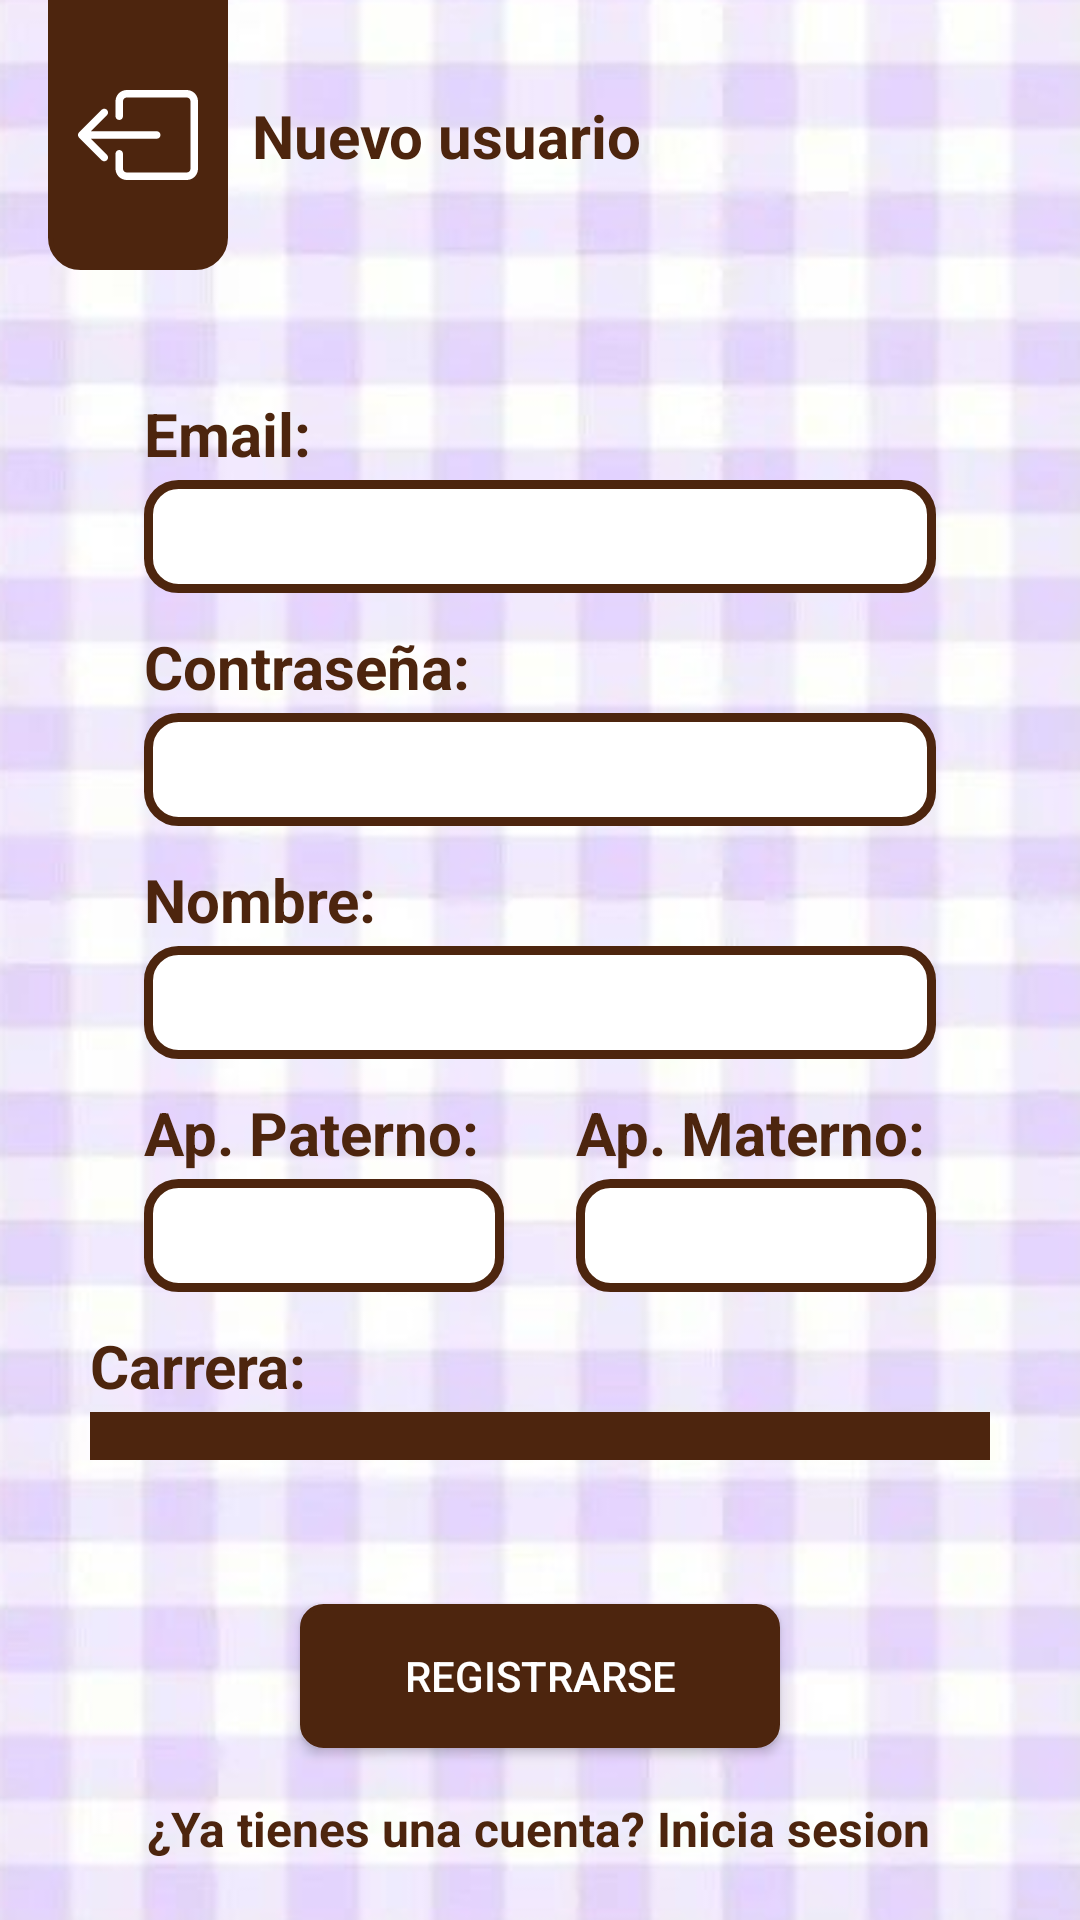

Locate icon controls on the screen. Image size 1080w x 1920h, boxes as (x1, y1, x2, y2).
box arrow left: (78, 90, 198, 180)
